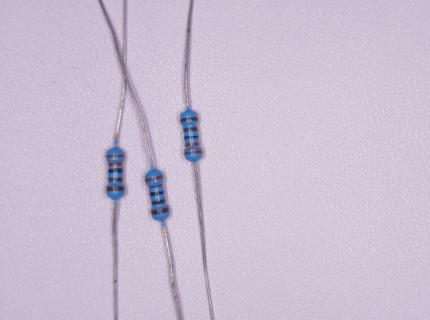Black band: (150, 191, 164, 197), (184, 135, 199, 140), (109, 168, 123, 173)
Brown band: (152, 207, 169, 215), (151, 199, 166, 205), (180, 117, 198, 122), (109, 177, 123, 182), (183, 127, 197, 132), (107, 187, 124, 191)
Orange band: (146, 175, 163, 182), (185, 150, 202, 155), (109, 162, 123, 167), (149, 184, 163, 189), (185, 142, 199, 147), (106, 155, 125, 158)
